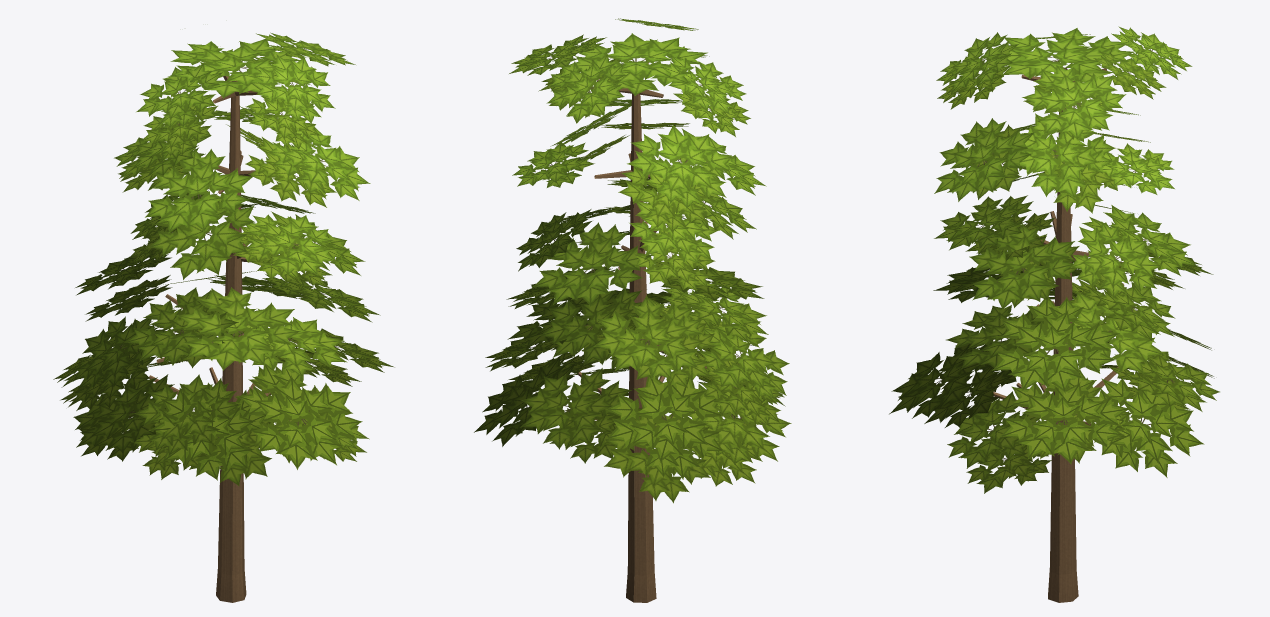
File: maple2_a.glb
The picture shows the model from 3 angles, left to right: view 1: azimuth 30°, elevation 25°; view 2: azimuth 150°, elevation 25°; view 3: azimuth 270°, elevation 25°; orthographic projection. The views are drawn at different scales.
Visible parts, largest first — view 1: maple2_a; view 2: maple2_a; view 3: maple2_a.
Part boxes in pixels (x1,y1,x2,y2): maple2_a: (53,32,394,602); maple2_a: (474,18,791,602); maple2_a: (889,26,1219,602).
Bounding box in the file's own units: 4.18 × 6.37 × 3.98.
Materials: 2 (2 with a texture image).
